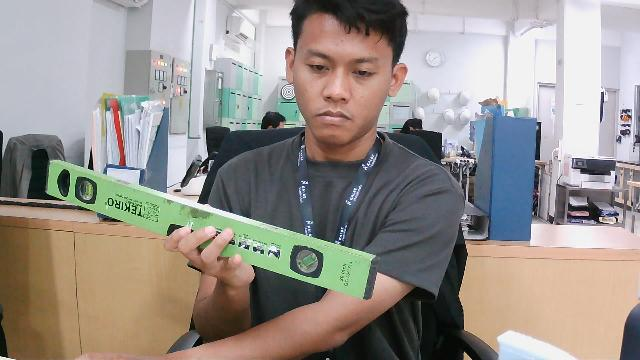water_pass: (43, 155, 381, 305)
